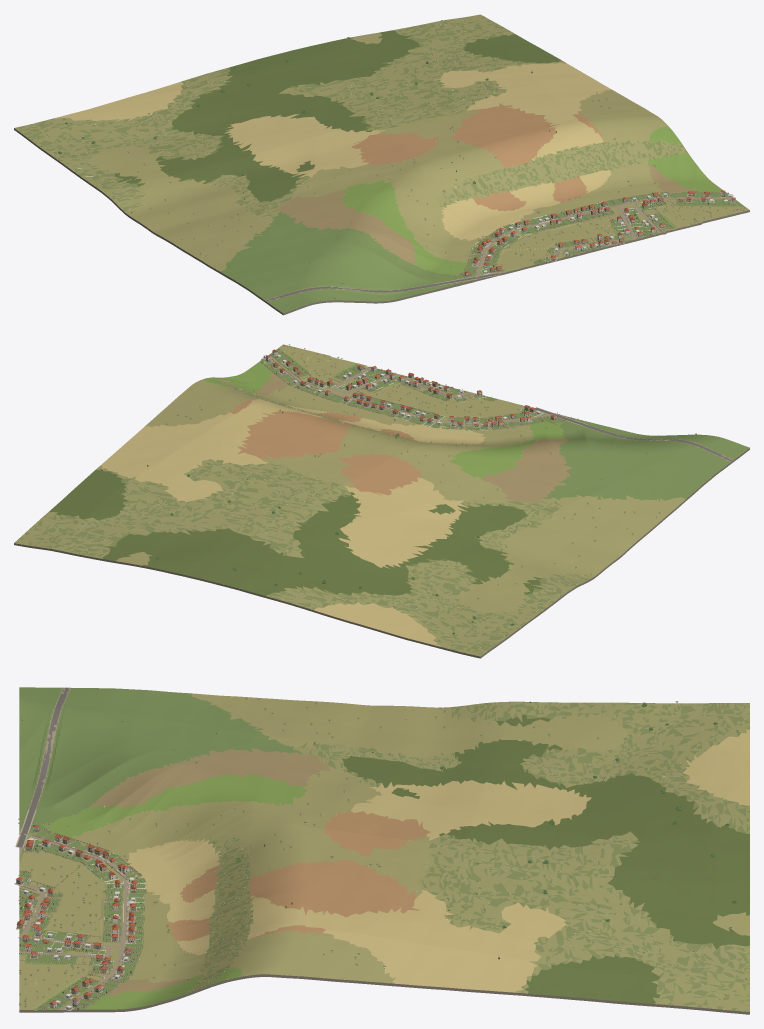
Rendered from parca_-1_-5-yakin.glb.
3 renders of one model, top to bottom at view 1: azimuth 30°, elevation 25°; view 2: azimuth 150°, elevation 25°; view 3: azimuth 270°, elevation 25°, orthographic. The views are drawn at different scales.
Visible parts, largest first — view 1: parca_-1_-5_arazi, parca_-1_-5_yapilar, parca_-1_-5_duvarlar, parca_-1_-5_yollar, parca_-1_-5_bitkiler; view 2: parca_-1_-5_arazi, parca_-1_-5_yapilar, parca_-1_-5_duvarlar, parca_-1_-5_bitkiler, parca_-1_-5_yollar; view 3: parca_-1_-5_arazi, parca_-1_-5_yapilar, parca_-1_-5_duvarlar, parca_-1_-5_yollar, parca_-1_-5_bitkiler.
Part boxes in pixels (x1,y1,x2,y2): parca_-1_-5_arazi: [14, 14, 749, 315]; parca_-1_-5_yapilar: [464, 190, 735, 276]; parca_-1_-5_duvarlar: [453, 191, 743, 284]; parca_-1_-5_yollar: [266, 197, 730, 301]; parca_-1_-5_bitkiler: [40, 20, 744, 298]; parca_-1_-5_arazi: [14, 344, 749, 658]; parca_-1_-5_yapilar: [263, 349, 556, 427]; parca_-1_-5_duvarlar: [260, 348, 578, 430]; parca_-1_-5_bitkiler: [35, 344, 696, 641]; parca_-1_-5_yollar: [271, 358, 732, 461]; parca_-1_-5_arazi: [19, 687, 749, 1014]; parca_-1_-5_yapilar: [14, 825, 137, 1011]; parca_-1_-5_duvarlar: [18, 818, 145, 1009]; parca_-1_-5_yollar: [15, 687, 128, 1010]; parca_-1_-5_bitkiler: [19, 698, 746, 1009].
Bounding box in the file's own units: 1006 × 77.96 × 1007.
